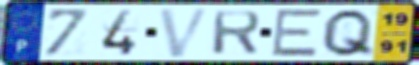4: (99, 8, 139, 57)
7: (45, 7, 93, 58)
E: (268, 7, 325, 58)
Q: (318, 7, 377, 58)
R: (210, 9, 264, 56)
V: (156, 6, 214, 59)
